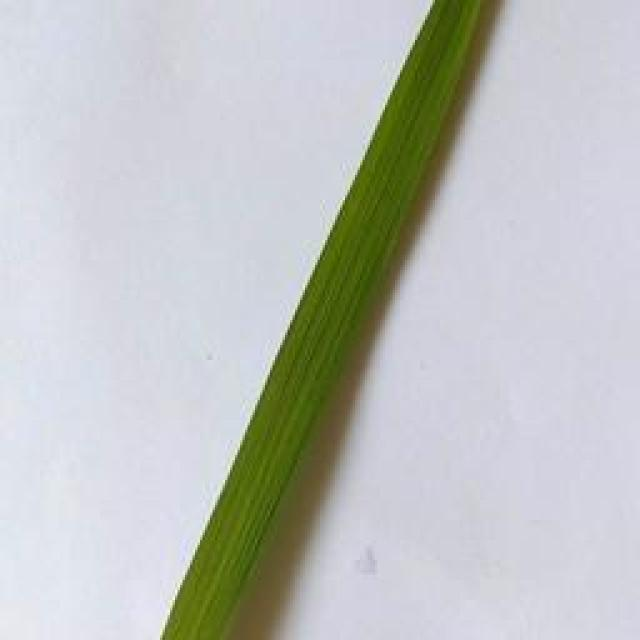Healthy-Plant: (164, 0, 483, 640)
